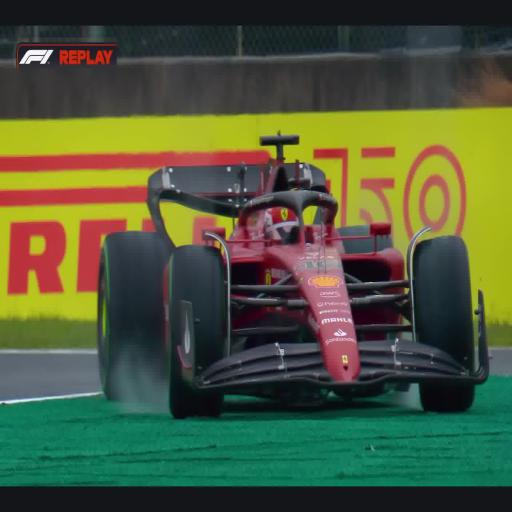f1_car: (97, 133, 489, 417), (126, 398, 128, 399)
